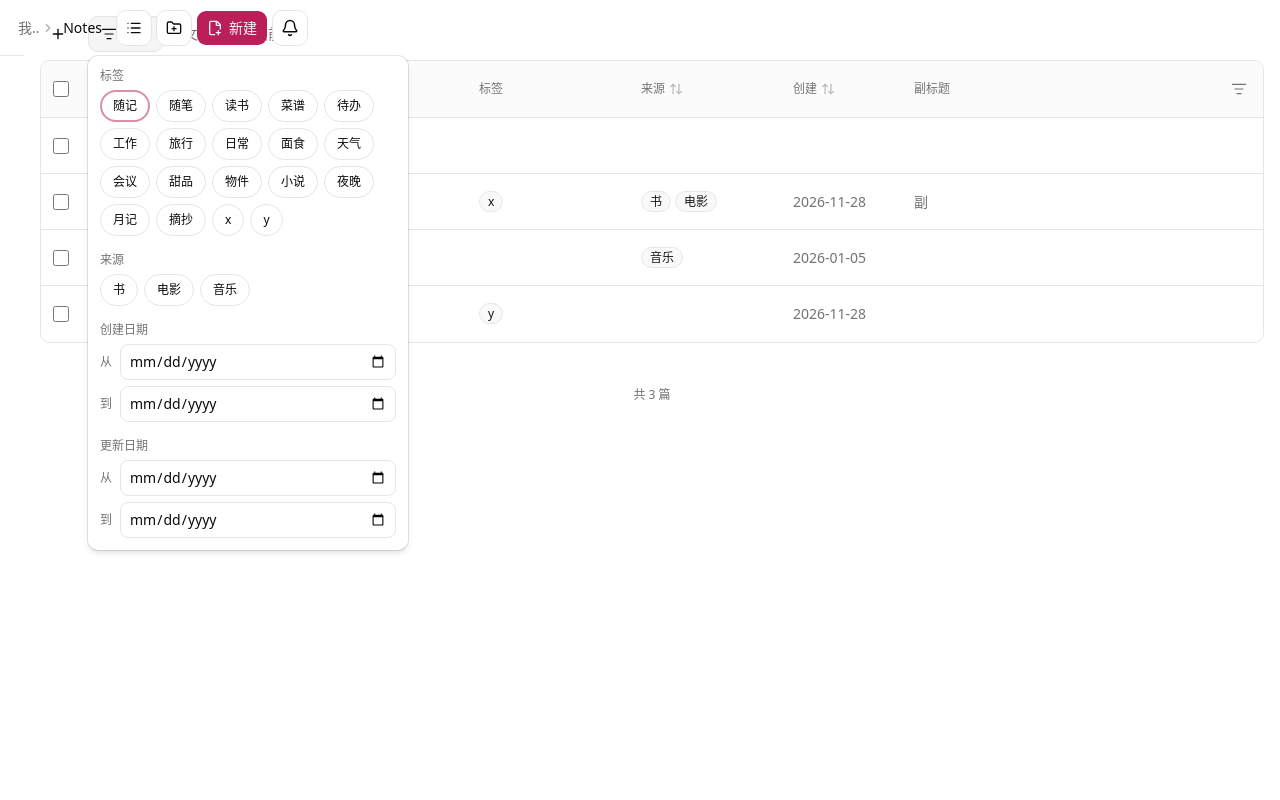
the folder as a table › filters by a source and by a tag behind the filter button, as chips that can be taken away
Earlier steps of the test are not shown.
Later steps or results of the test are not shown.
Press the mouse on the button "书" at x=119, y=290, box [100, 274, 138, 306]
Click the button "书" at x=119, y=290, box [100, 274, 138, 306]
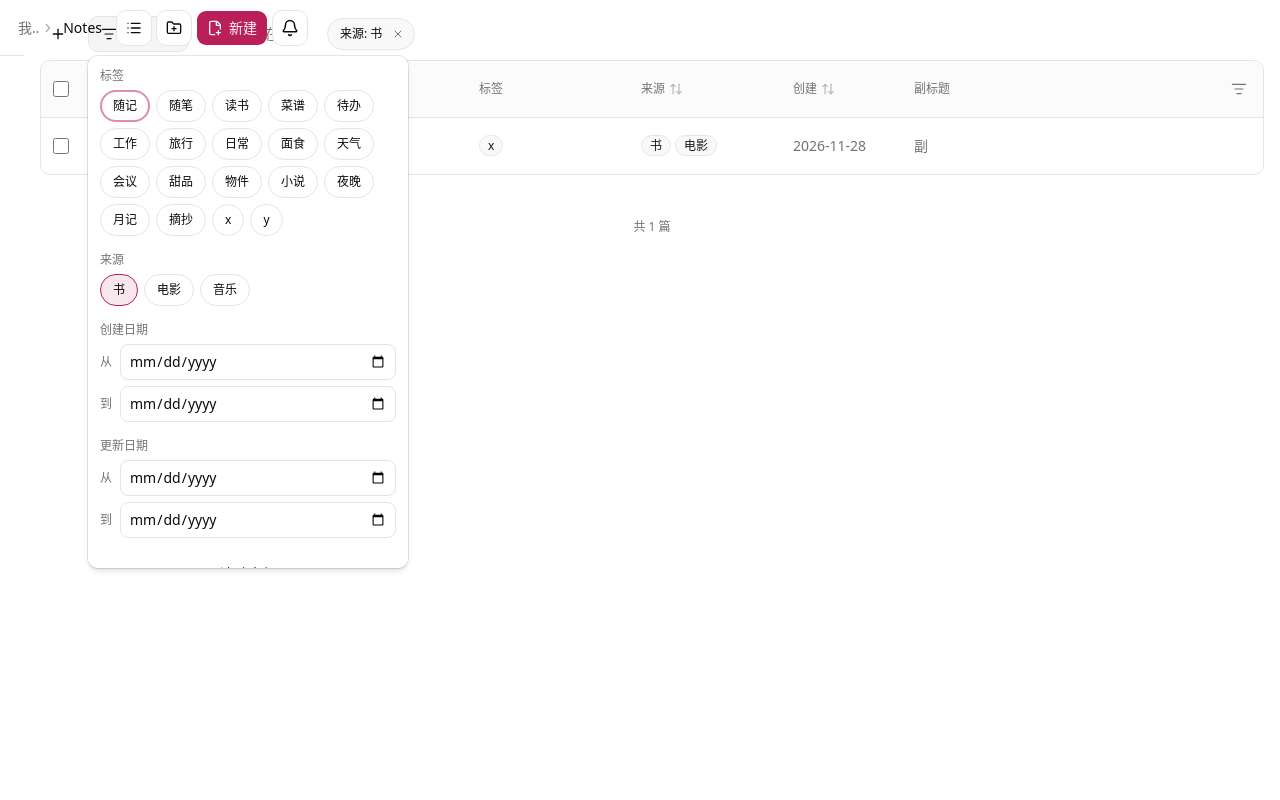
Expected: the row "Bravo Bravo 正文 刚刚 x 书 电影 2026-11-28 副" is shown, [41, 118, 1263, 174]
Now the element showing "来源: 书" is shown, box [327, 18, 415, 50]
